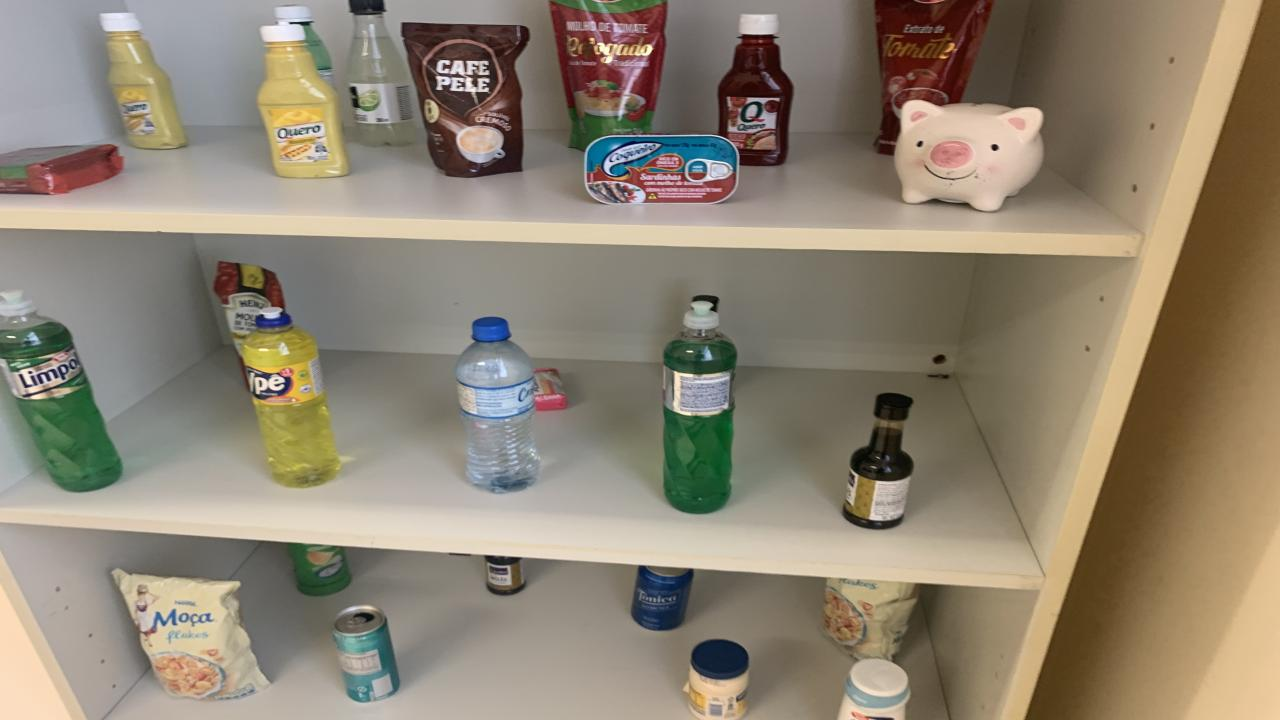Cleaner-Cleanup_Items: (838, 658, 910, 720)
Coffee-Pantry_Items: (402, 22, 530, 178)
Detergent-Cleanup_Items: (0, 291, 122, 491), (242, 308, 340, 488), (662, 296, 738, 514)
English_Sauce-Pantry_Items: (842, 392, 912, 529), (485, 555, 525, 594)
Flakes-Snacks: (112, 570, 270, 701), (822, 578, 920, 660)
Guarana-Drinks: (275, 6, 335, 86)
Guava-Snacks: (0, 144, 122, 195)
Ketchup-Pantry_Items: (718, 15, 792, 165)
Mayonnaise-Pantry_Items: (685, 639, 750, 718)
Mustard-Pantry_Items: (258, 39, 350, 178), (100, 13, 188, 148)
Pig_Safe-Miscellaneous: (895, 99, 1045, 212)
Pringles-Snacks: (288, 544, 352, 596)
Soap-Cleanup_Items: (532, 368, 568, 411)
Soda-Drinks: (348, 0, 415, 146)
Tea-Drinks: (332, 606, 400, 703)
Tomato_Sauce-Pantry_Items: (875, 0, 995, 154), (550, 0, 668, 150), (212, 262, 285, 354)
Tonic-Drinks: (630, 566, 692, 630)
Tuna_Can-Pantry_Items: (585, 135, 740, 204)
Water_Bottle-Drinks: (455, 317, 540, 493)
